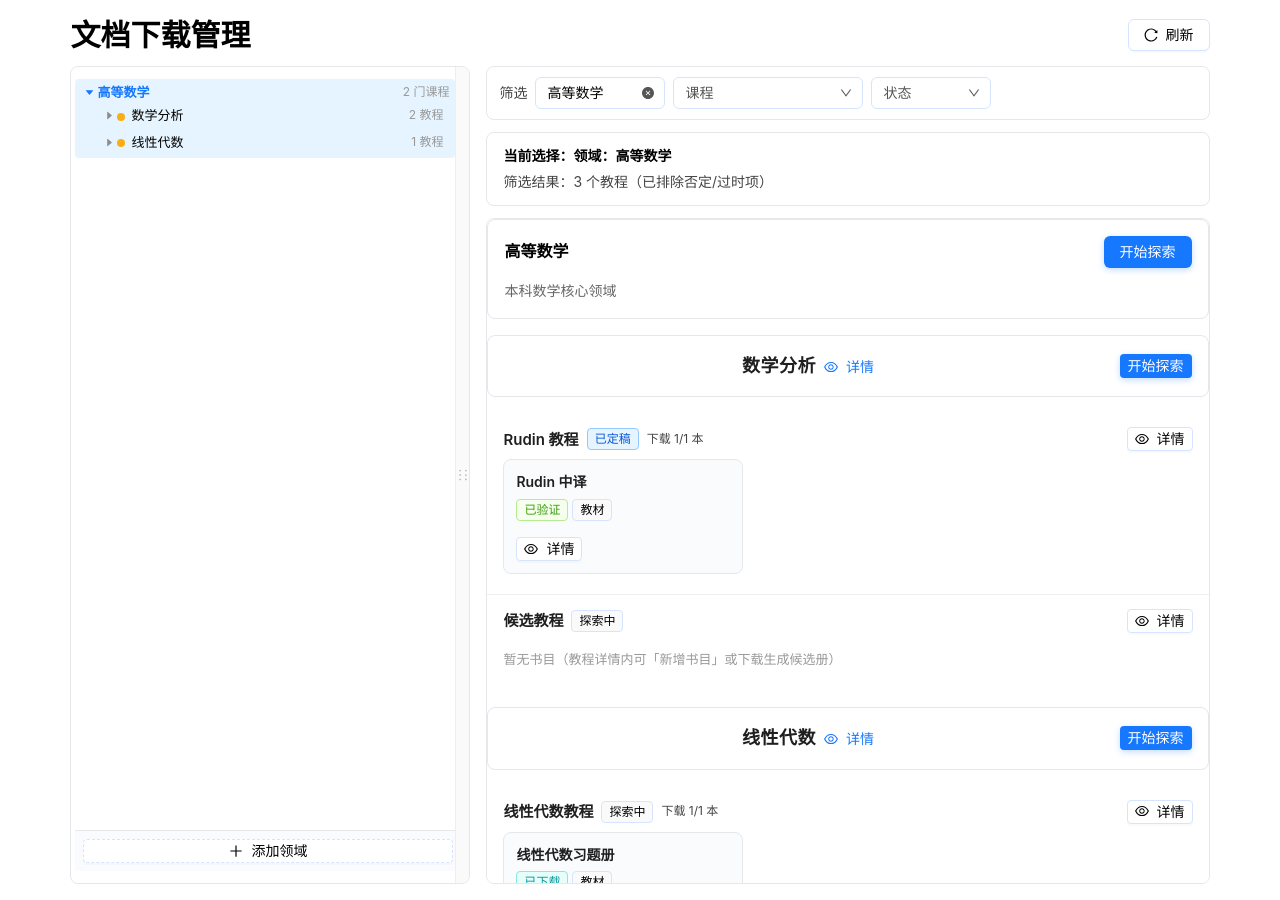
文档下载管理 Downloads v2（真实领域课程体系，2026-08-24 REQ-059） › 筛选栏三栏（领域/课程/状态）：状态=书籍阶段，与树选择叠加 AND
Expected: the element named "领域筛选" is shown, [547,78,653,108]
Expected: the element named "课程筛选" is shown, [685,84,713,101]
Click the text "数学分析" at (150, 115), box [117,107,183,123]
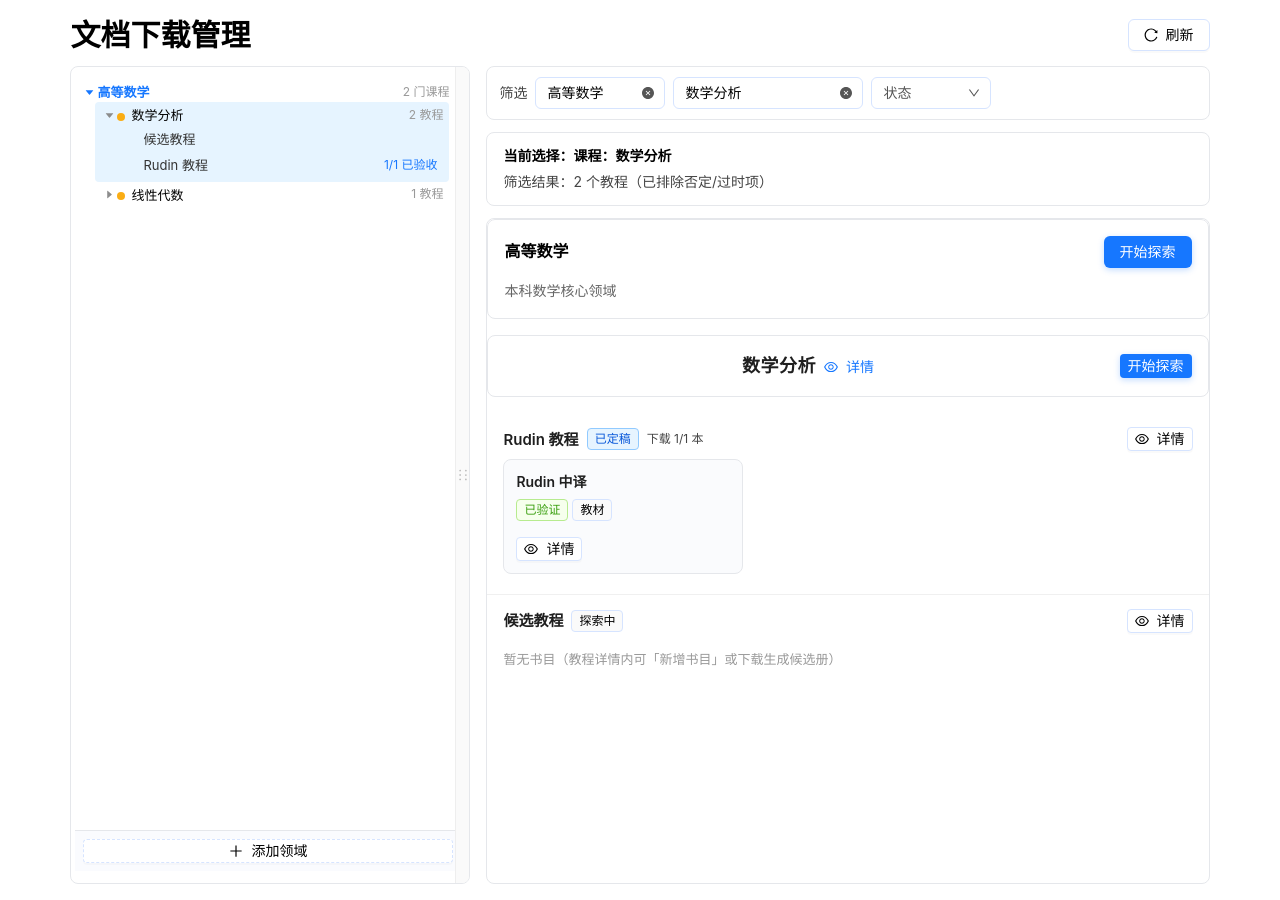
Press the mouse on the dropdown named "状态筛选" at (931, 93), box [883,78,979,108]
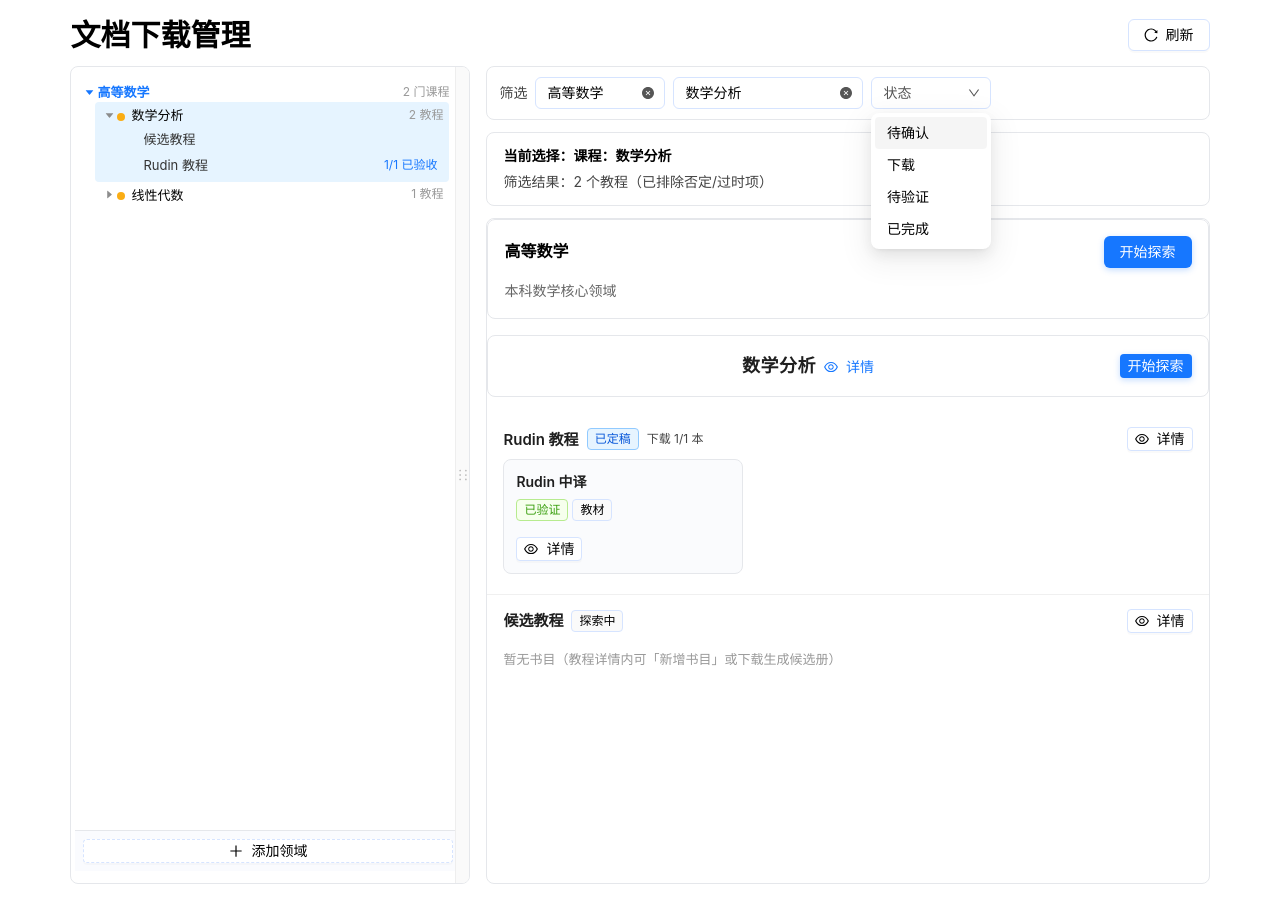
Click the element titled "已完成" at (908, 228), box [887,220,929,237]
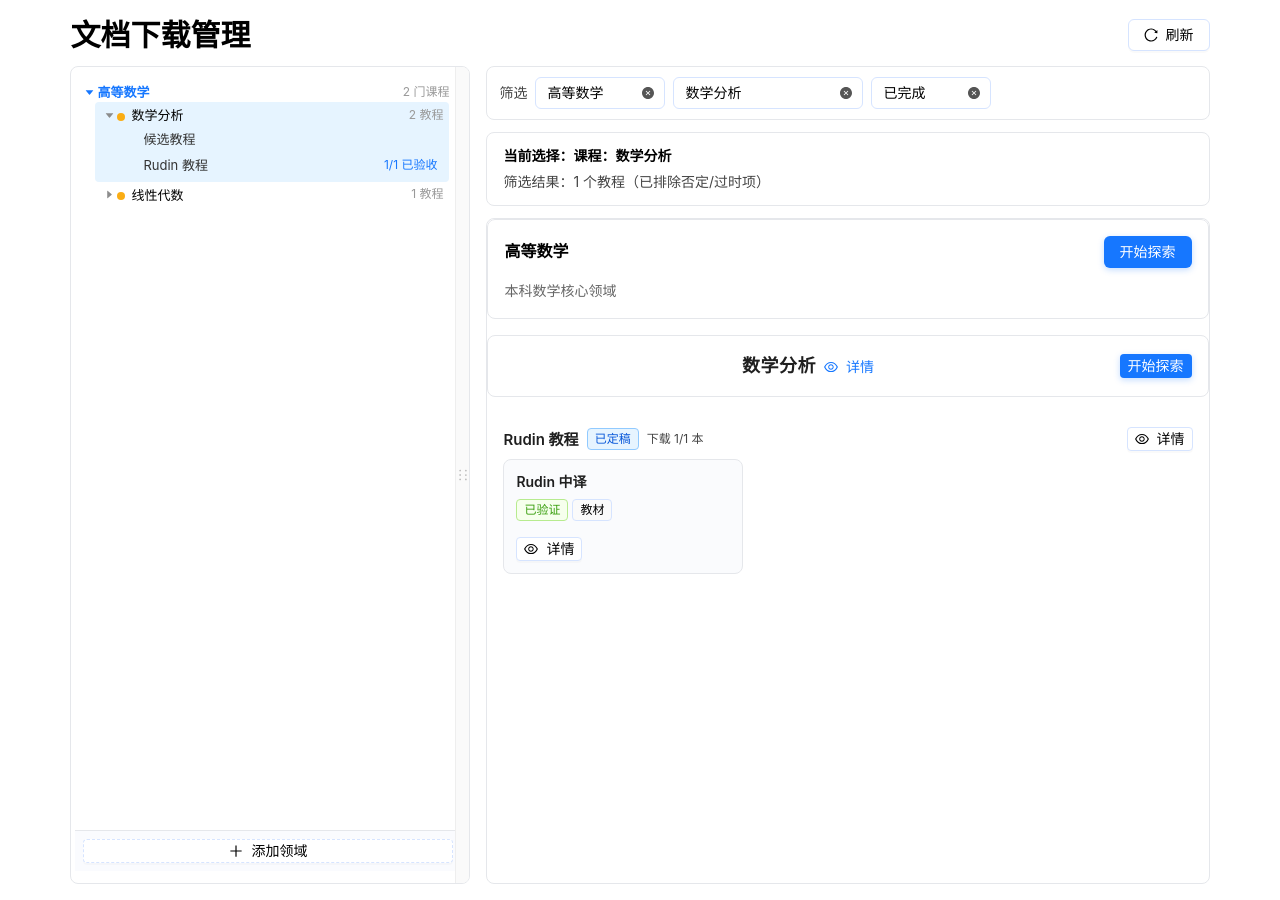
Now the text "筛选结果：1 个教程（已排除否定/过时项）" is shown, box [503,173,770,190]
